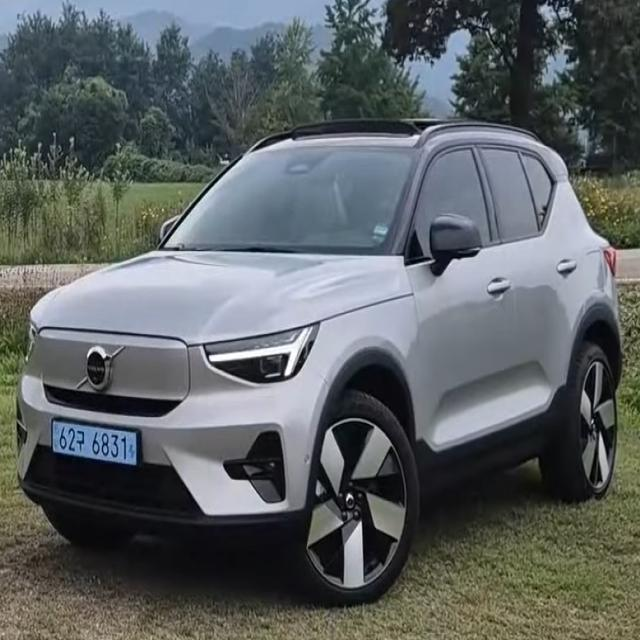car: (42, 409, 154, 478)
carev: (128, 428, 142, 470), (48, 415, 60, 458)
